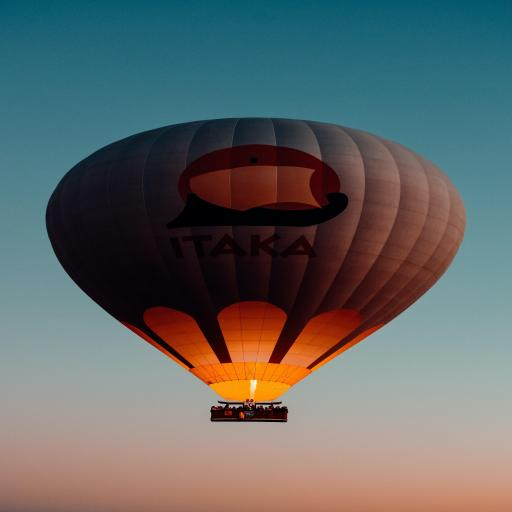hot air ballon: (40, 112, 472, 424)
